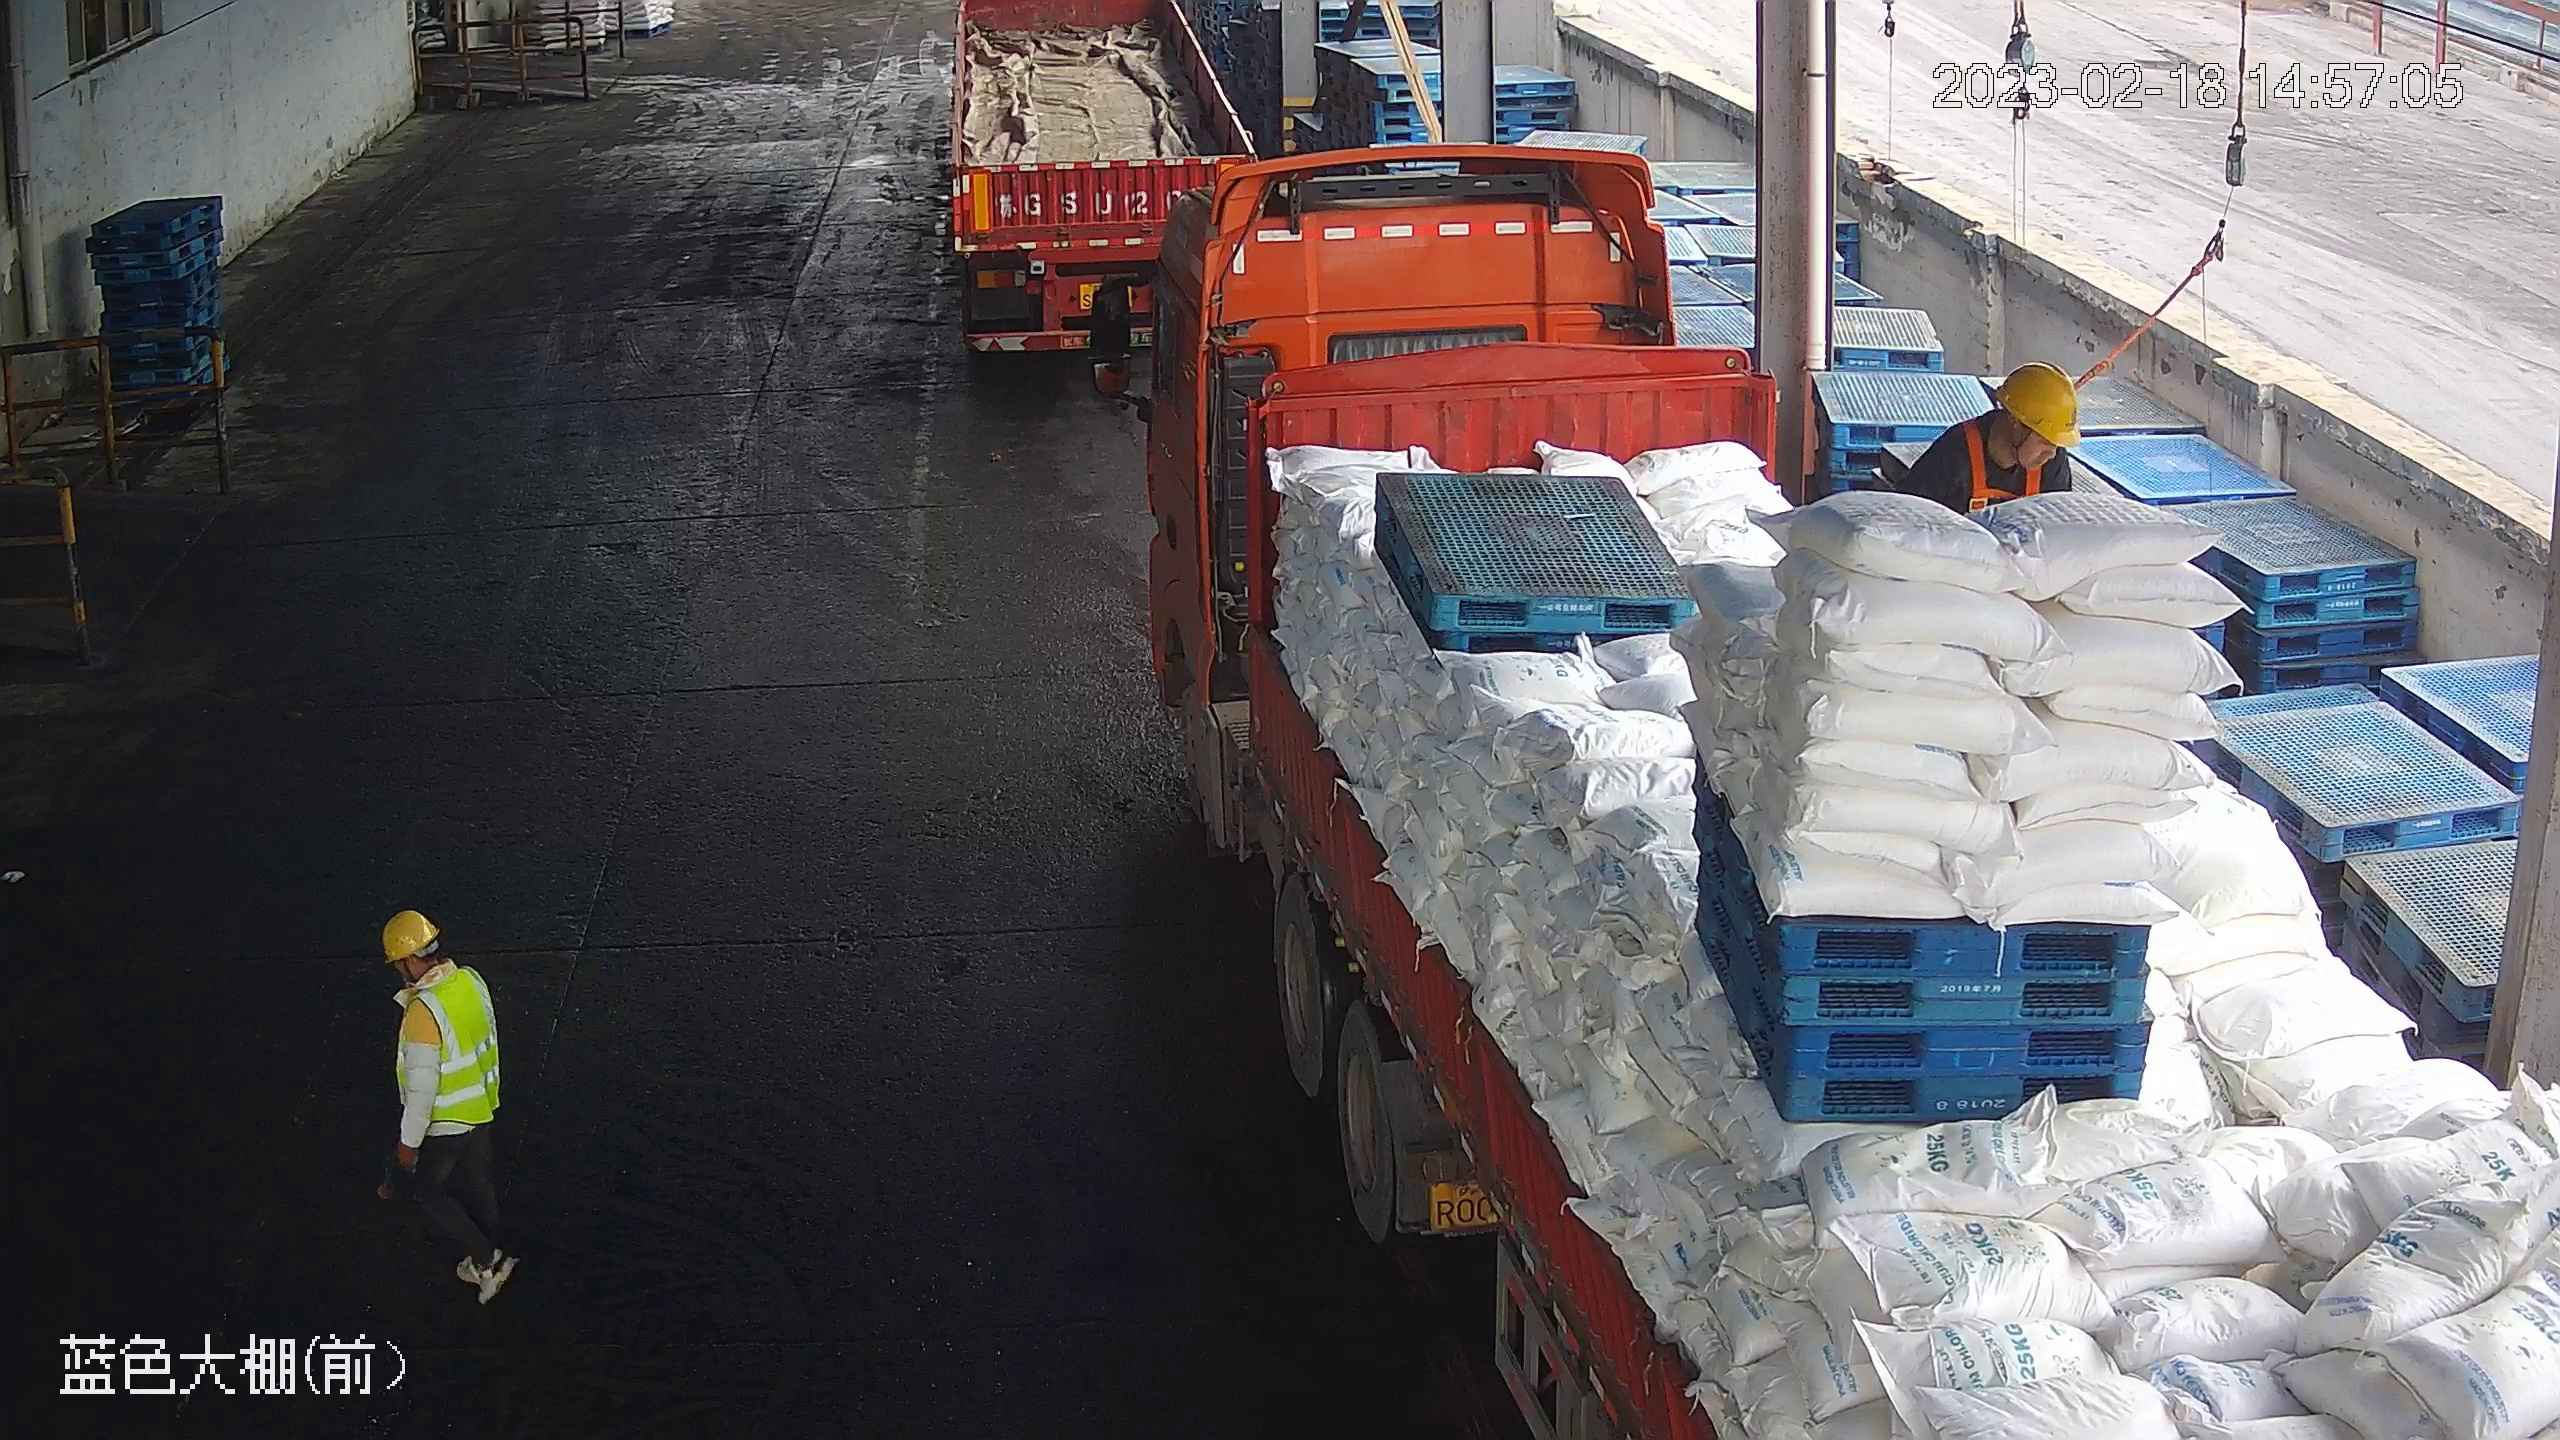belt: (1958, 417, 2047, 515)
head: (1913, 357, 2083, 493), (373, 911, 495, 1034)
helmet: (1996, 359, 2084, 449), (374, 909, 438, 957)
people: (361, 907, 521, 1312)
truck: (1079, 157, 2555, 1440), (923, 1, 1266, 367)
